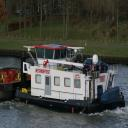tugboat: (15, 42, 127, 118)
